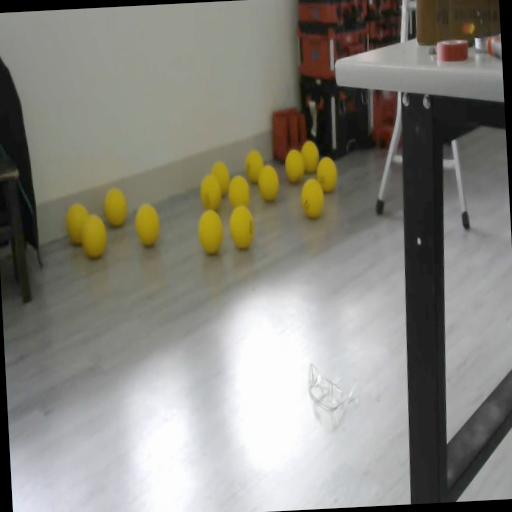FUEL: (80, 213, 109, 260), (196, 208, 224, 256), (228, 202, 256, 250), (134, 202, 161, 248), (102, 186, 128, 228), (300, 178, 325, 220), (198, 172, 222, 212), (226, 174, 252, 210), (257, 164, 280, 202), (316, 156, 338, 194), (284, 148, 305, 184), (244, 149, 265, 184), (300, 139, 320, 174)
